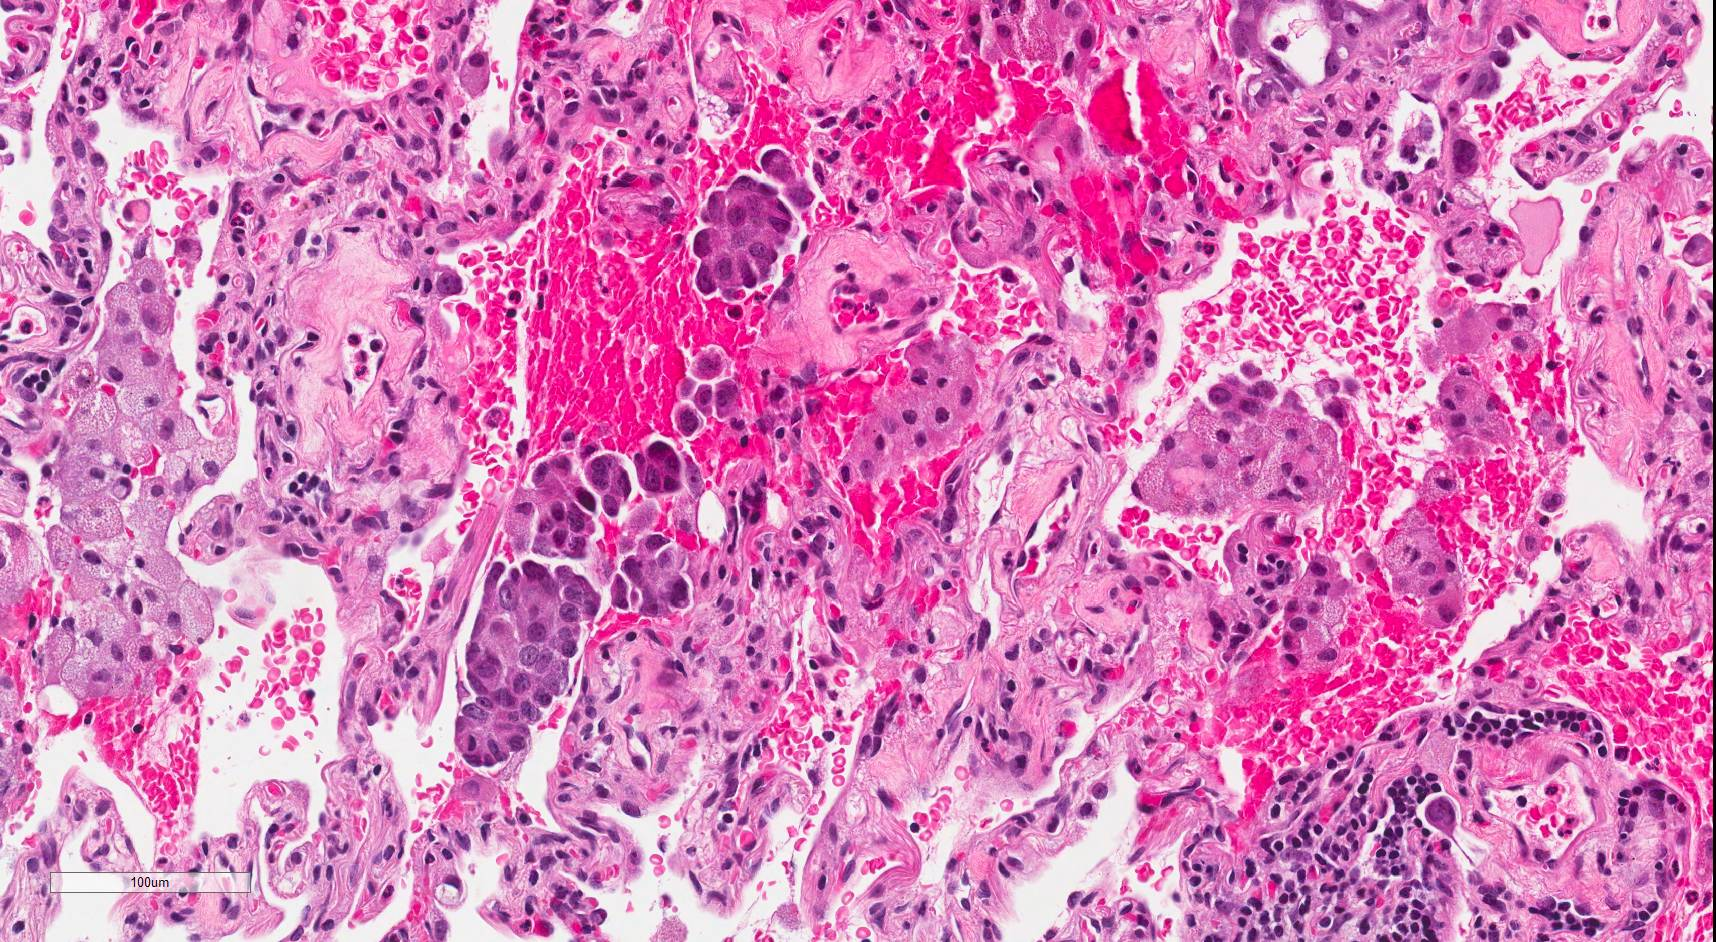stas: (447, 556, 607, 771), (693, 147, 813, 302), (507, 449, 633, 562), (610, 532, 691, 621), (1200, 359, 1286, 423), (629, 437, 691, 498)
